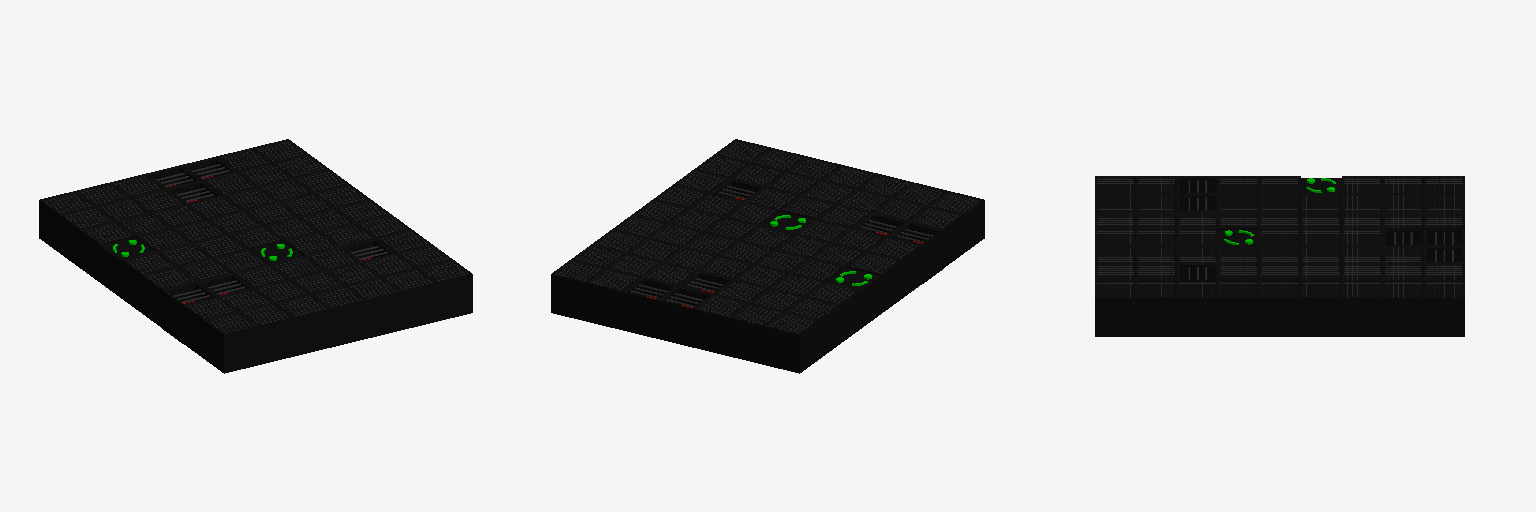
Rendered from Level.obj.
3 views of the same model, side by side, from view 1: azimuth 30°, elevation 25°; view 2: azimuth 150°, elevation 25°; view 3: azimuth 270°, elevation 25° (orthographic).
Parts seen in each view (by area): view 1: Linha 1.001; view 2: Linha 1.001; view 3: Linha 1.001.
Boxes of the visible parts, x1=… form: Linha 1.001: x1=39, y1=139, x2=472, y2=373; Linha 1.001: x1=551, y1=139, x2=984, y2=373; Linha 1.001: x1=1095, y1=176, x2=1464, y2=336.
Bounding box in the file's own units: 14.03 × 2.11 × 18.